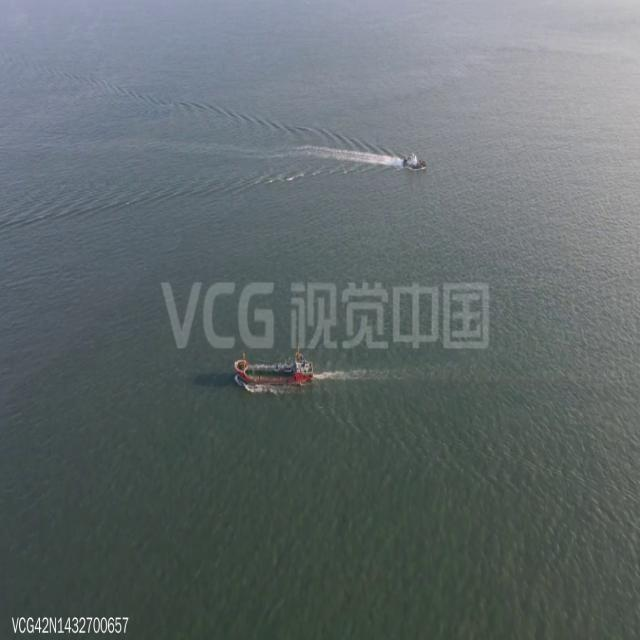cargoship: (233, 345, 315, 395), (400, 147, 430, 171)
